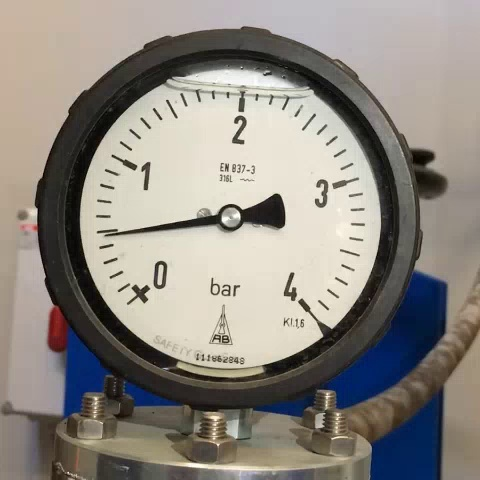Round_Meter: (66, 52, 394, 381)
